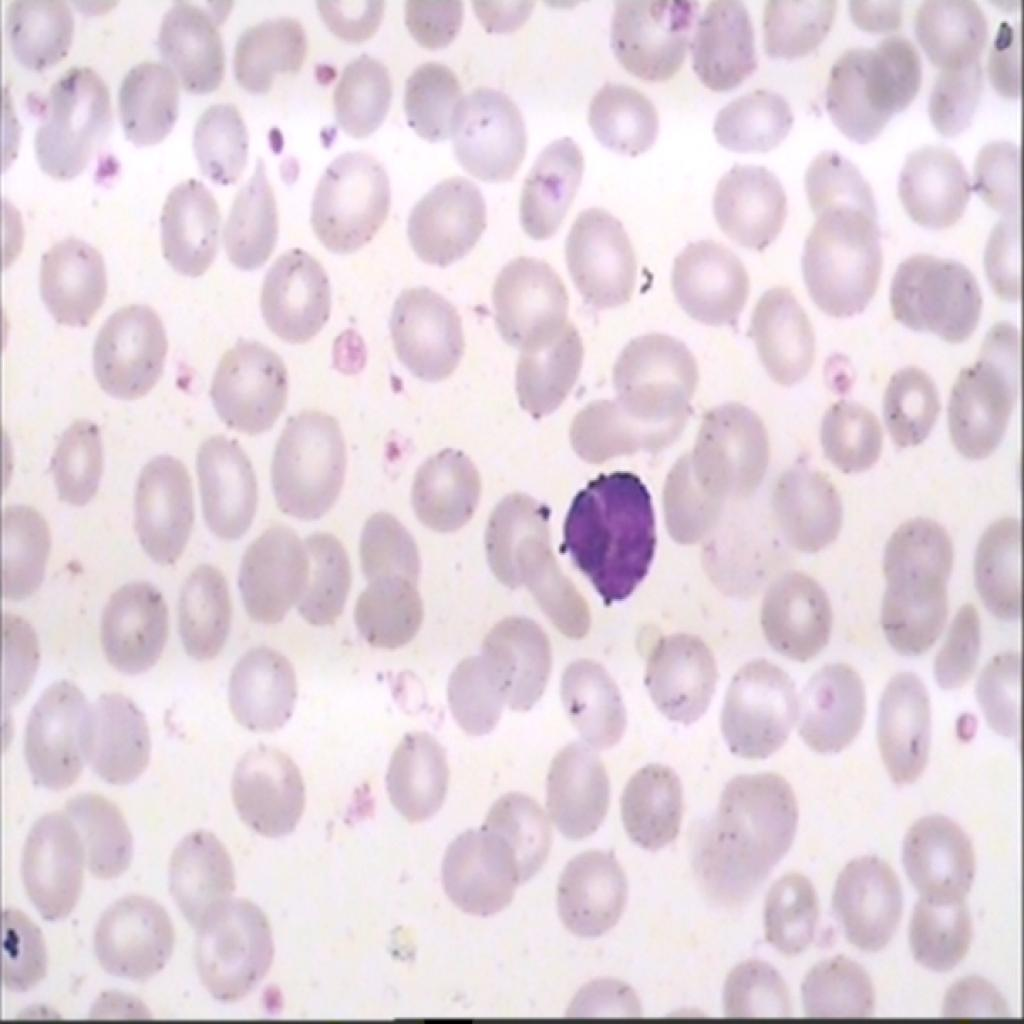Basofil: (554, 450, 658, 617)
Platelet: (362, 432, 416, 487), (932, 694, 982, 748), (515, 467, 553, 537), (46, 542, 91, 596), (307, 42, 350, 98), (377, 359, 418, 416), (334, 324, 374, 378), (166, 356, 200, 412), (90, 142, 122, 198), (313, 108, 351, 153), (272, 148, 303, 194), (826, 352, 856, 396), (0, 903, 24, 957), (256, 114, 284, 156), (26, 76, 46, 108)
